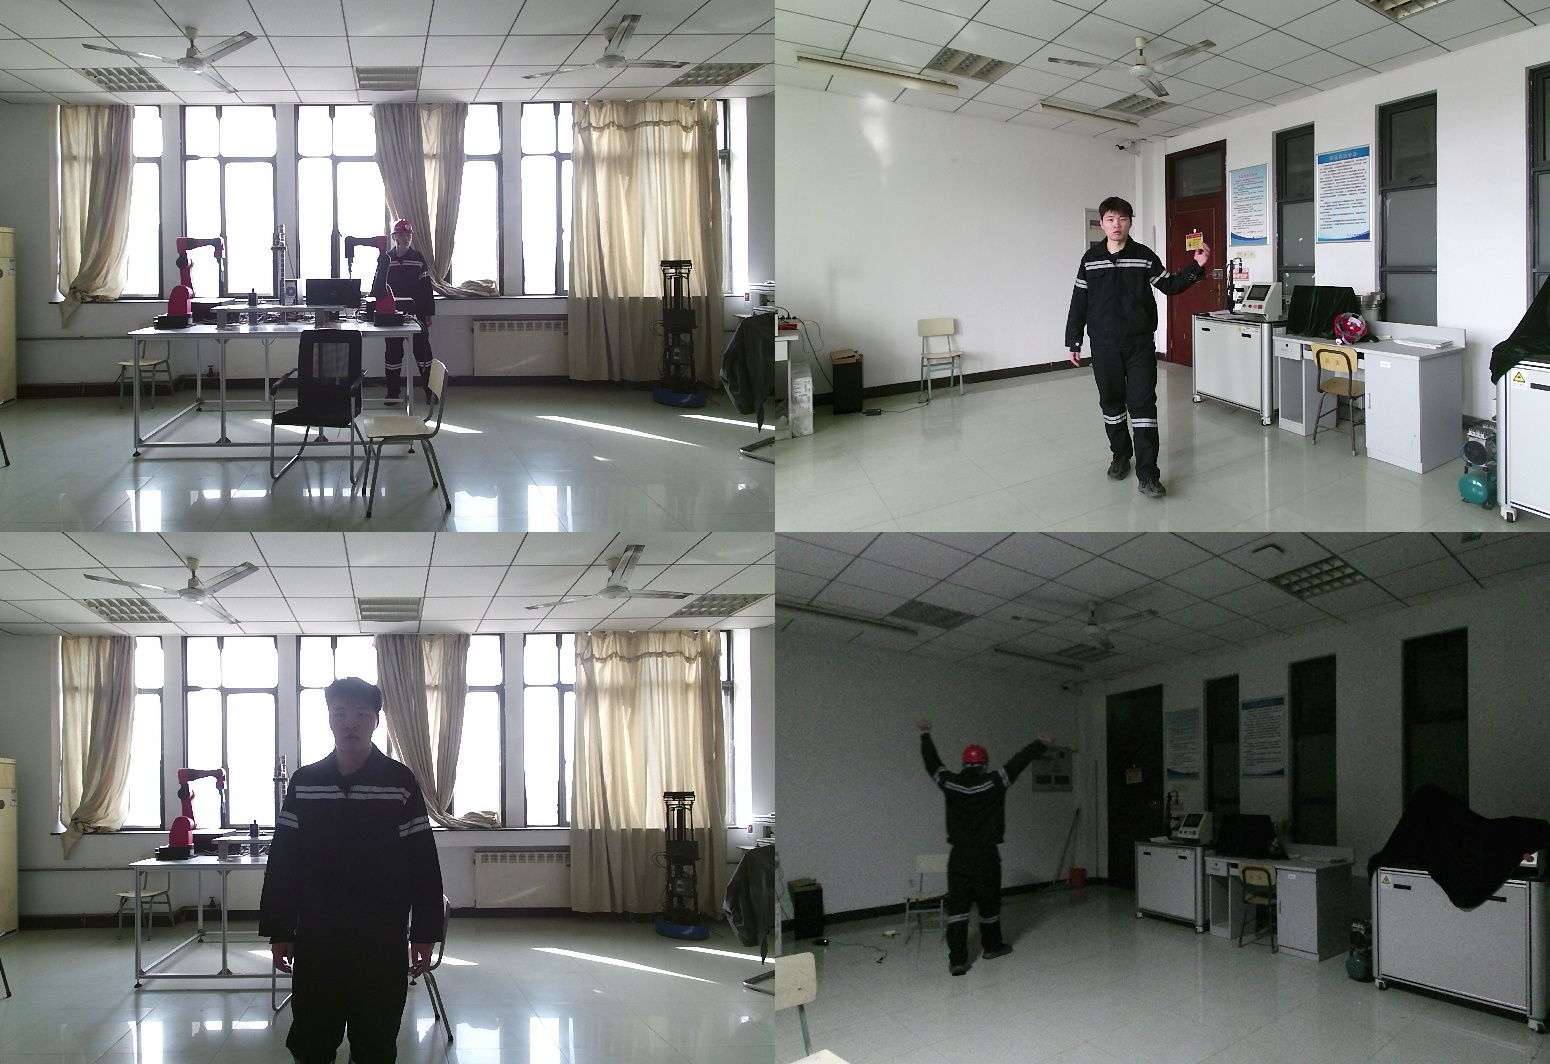person: (268, 678, 458, 1064), (1047, 197, 1231, 492), (908, 718, 1045, 978), (368, 219, 437, 406)
